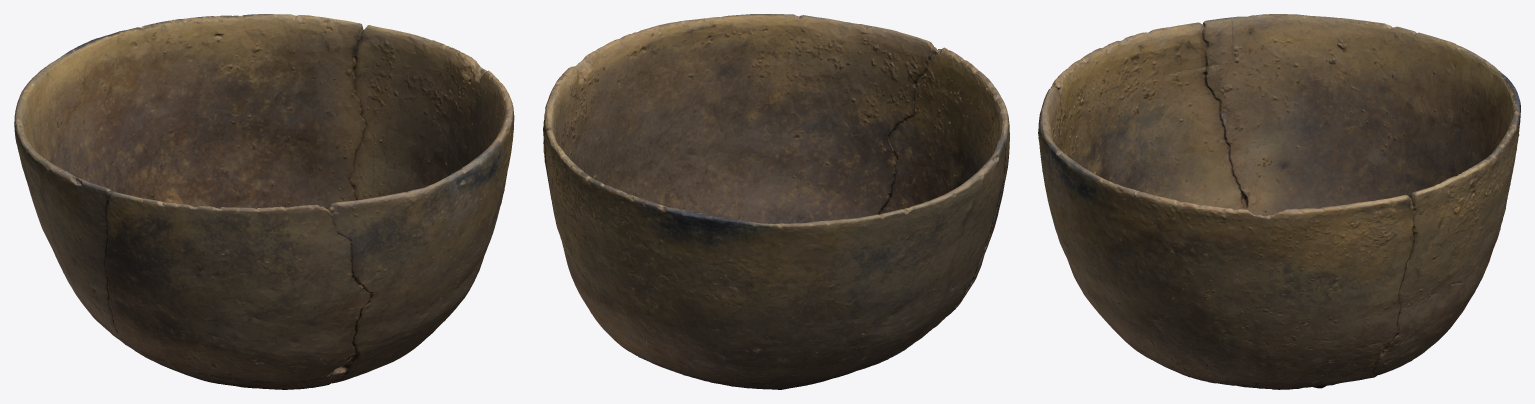
File: Objeto_04_4k-c.glb
3 views of the same model, side by side, from view 1: azimuth 30°, elevation 25°; view 2: azimuth 150°, elevation 25°; view 3: azimuth 270°, elevation 25° (orthographic). The views are drawn at different scales.
Visible parts, largest first — view 1: Mesh_0; view 2: Mesh_0; view 3: Mesh_0.
Part boxes in pixels (<box>): Mesh_0: <box>14,14,514,389</box>; Mesh_0: <box>543,14,1009,389</box>; Mesh_0: <box>1038,14,1520,389</box>.
Bounding box in the file's own units: 0.2275 × 0.1245 × 0.2249.
1 material, 1 textured.
